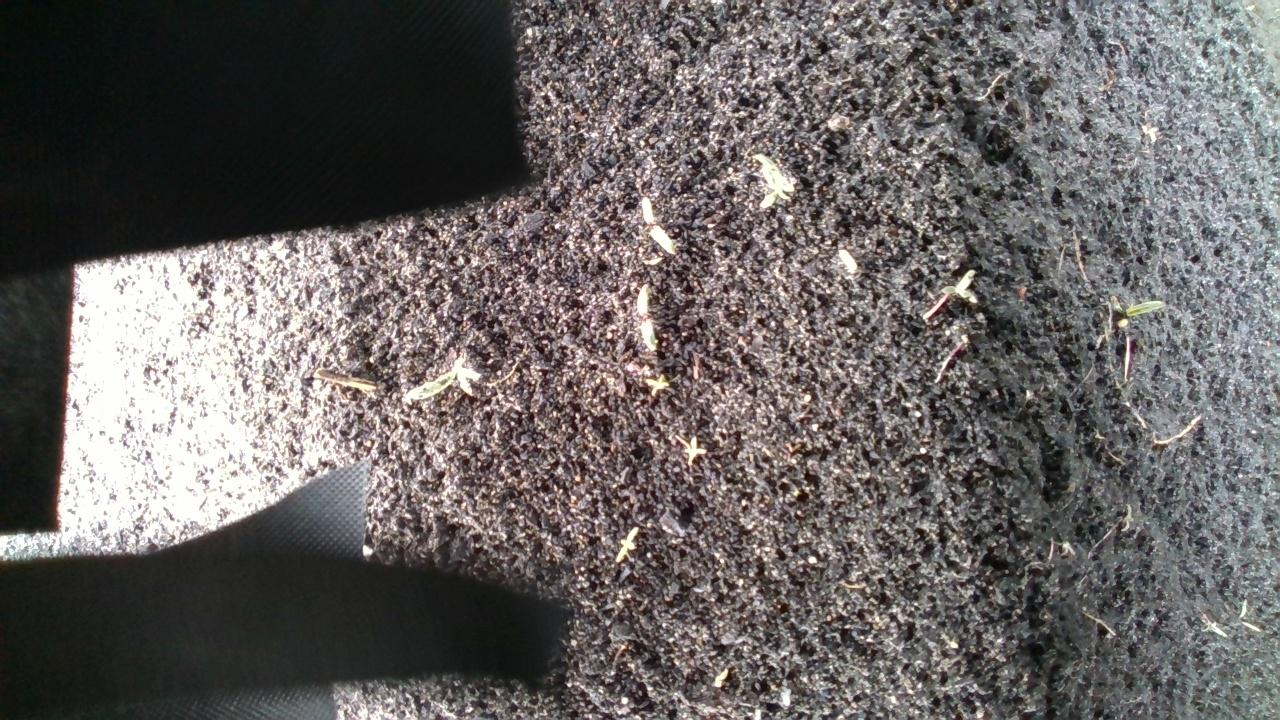weed: (630, 193, 698, 264), (1111, 288, 1169, 355), (633, 281, 659, 350), (946, 266, 983, 306), (613, 523, 642, 561), (681, 435, 705, 465), (644, 372, 669, 396)
